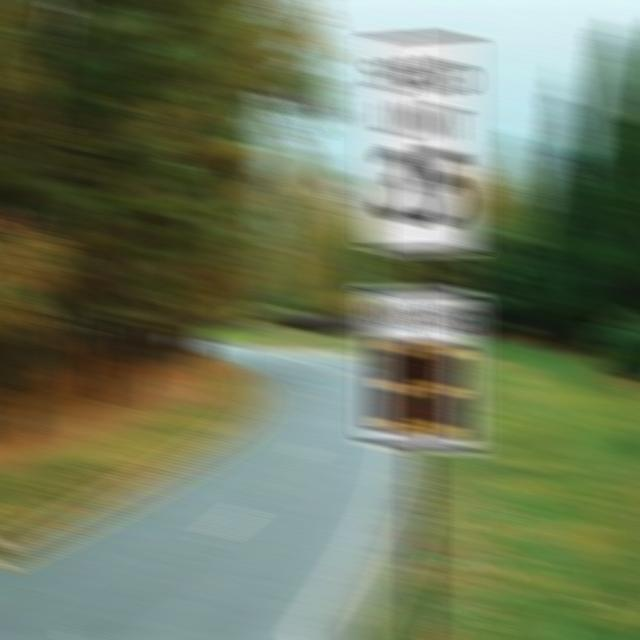speedLimit35: (361, 32, 484, 257)
